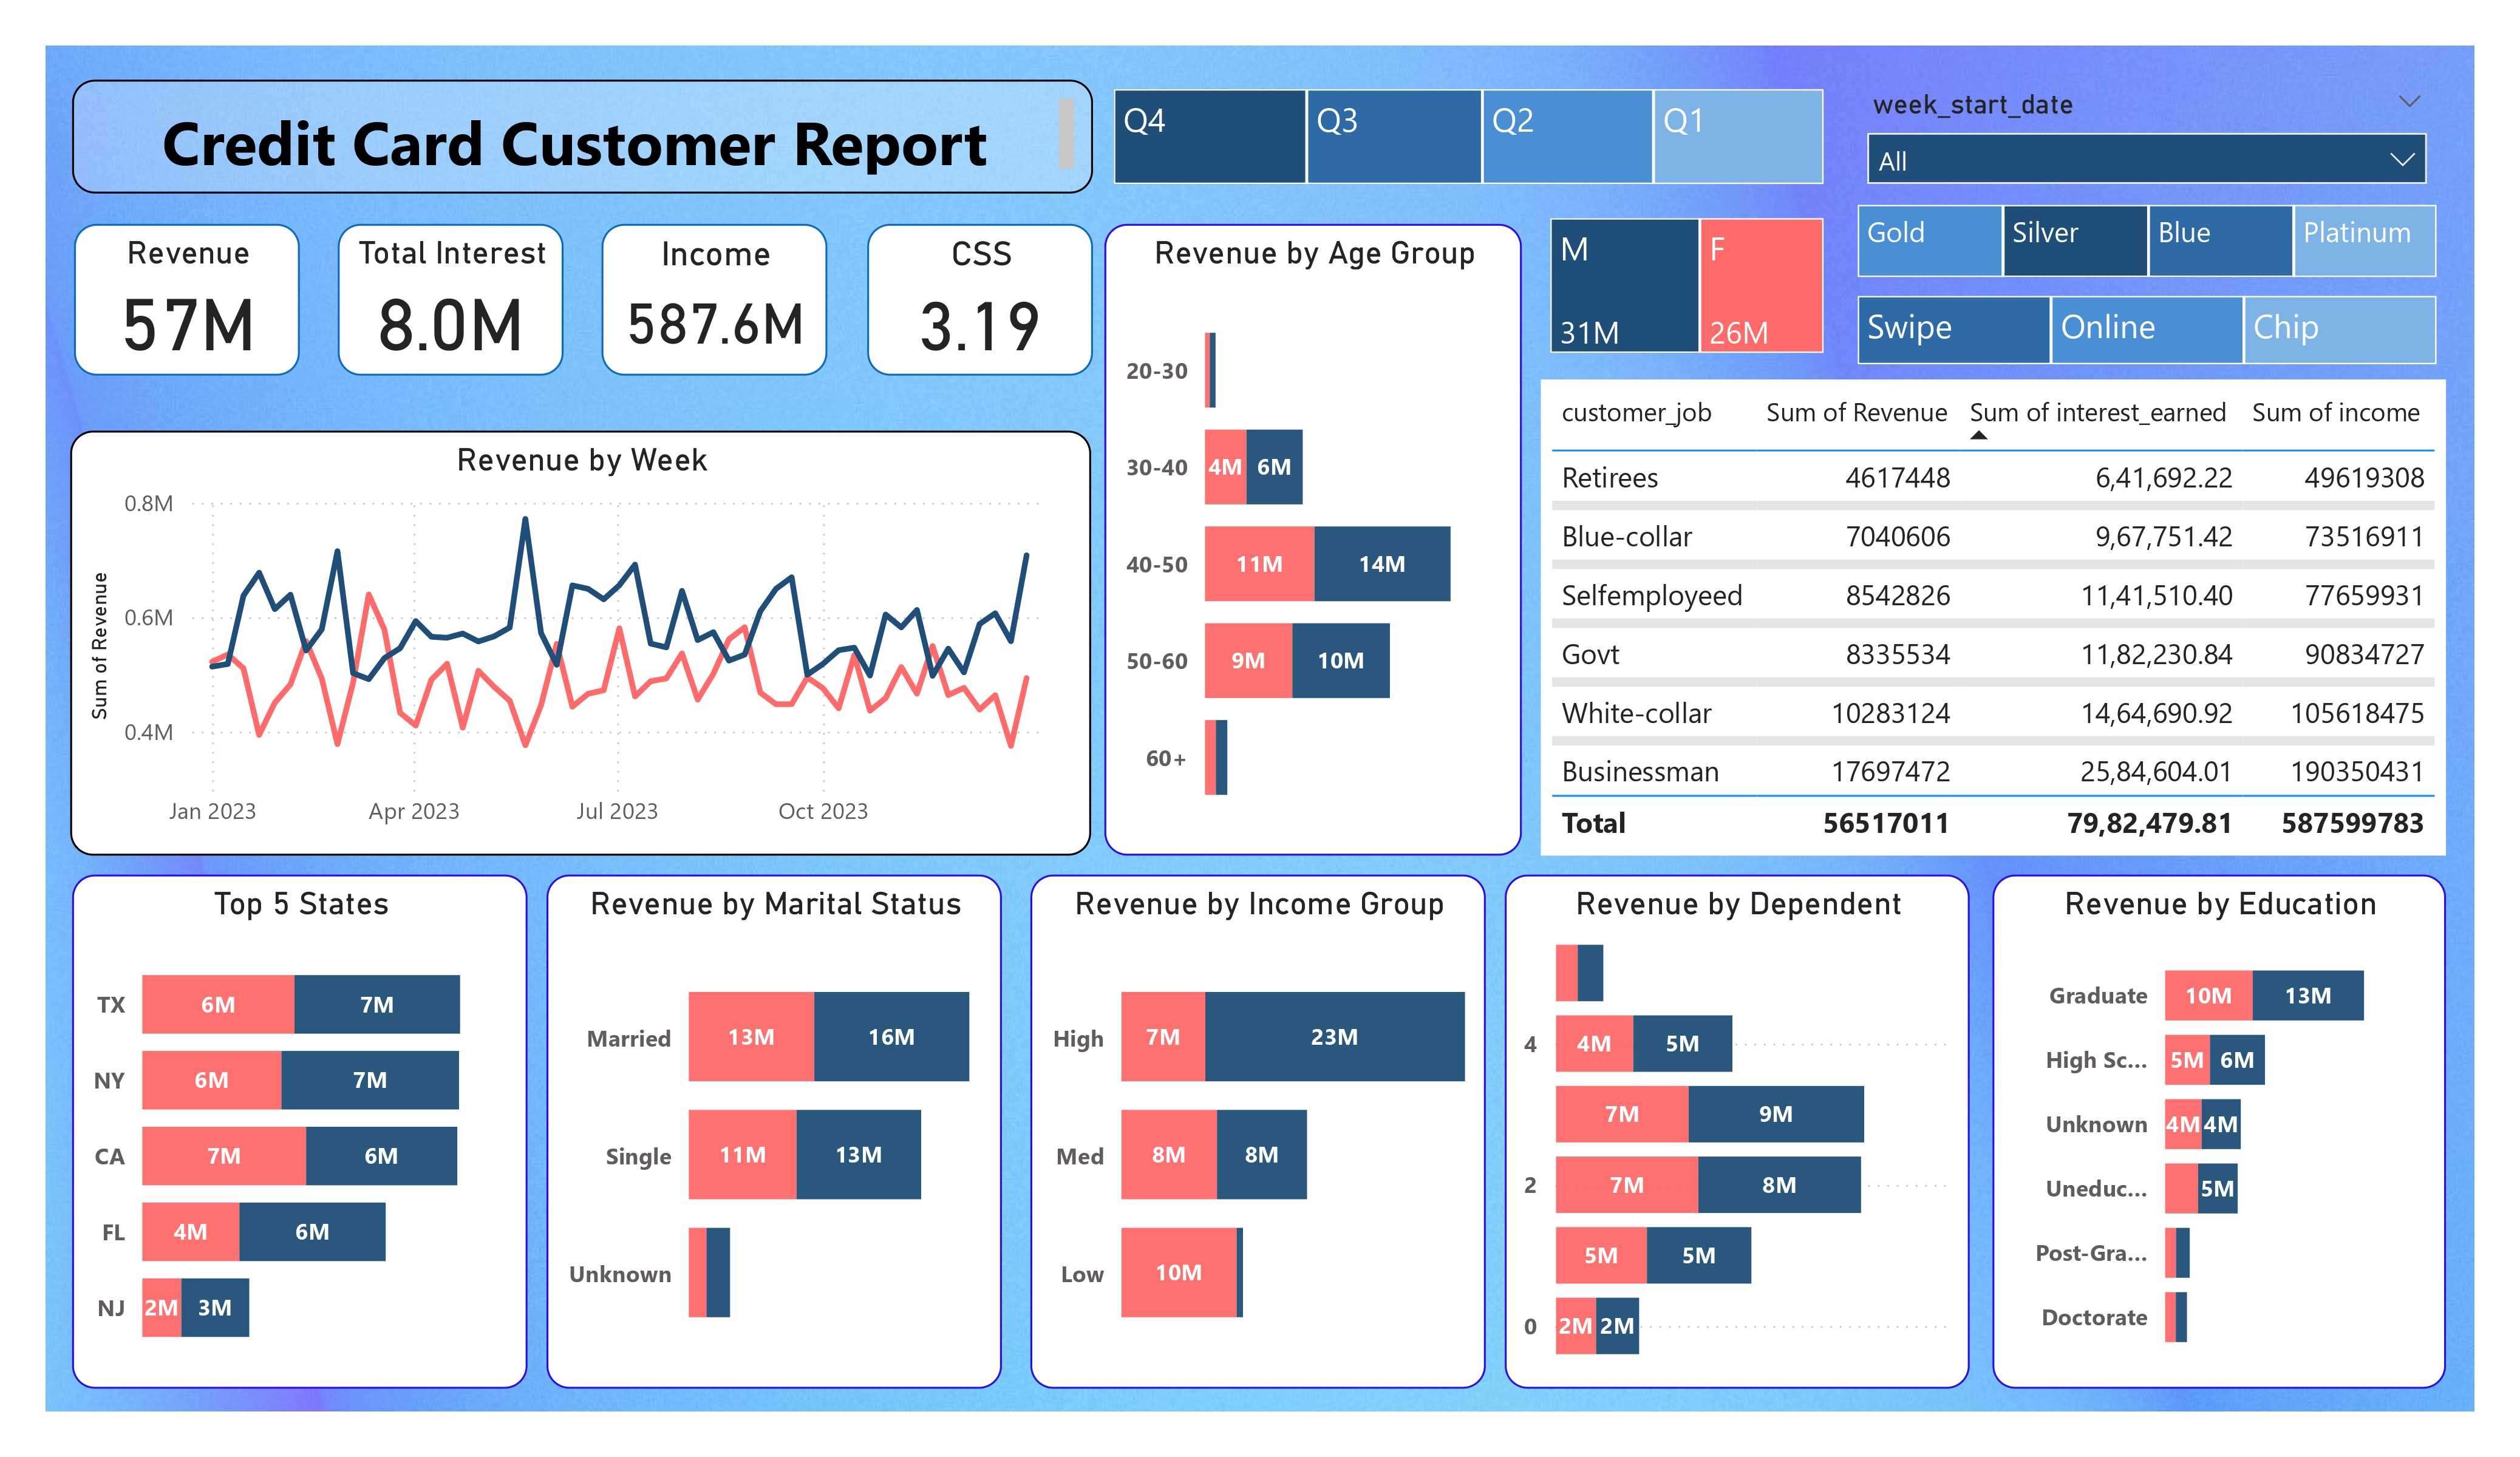

The page's visual inventory and layout, read from the dashboard file:
{"tool":"powerbi","page":{"name":"CC Customer Report","canvas":[1280,720],"ordinal":1},"visuals":[{"type":"textbox","box":[14.3,18.2,537.7,59.7],"z":0},{"type":"barChart","title":"Revenue by Income Group","fields":{"Y":["Sum(public cc_detail.Revenue)"],"Category":["public cust_detail.IncomeGroup"],"Series":["public cust_detail.gender"]},"box":[519.2,437.2,239.7,270.5],"z":1000},{"type":"tableEx","fields":{"Values":["public cust_detail.customer_job","Sum(public cc_detail.Revenue)","Sum(public cc_detail.interest_earned)","Sum(public cust_detail.income)"]},"box":[788.5,175.6,476.9,251.3],"z":2000},{"type":"slicer","fields":{"Values":["public cc_detail.week_start_date"]},"box":[950,17.9,315.4,75.6],"z":3000},{"type":"treemap","fields":{"Group":["public cc_detail.qtr"],"Values":["Avg(public cc_detail.client_num)"]},"box":[557.7,17.9,384.6,60.3],"z":4000},{"type":"treemap","fields":{"Values":["Avg(public cc_detail.client_num)"],"Group":["public cc_detail.use_chip"]},"box":[950,126.9,315.4,46.2],"z":5000},{"type":"treemap","fields":{"Values":["Avg(public cc_detail.client_num)"],"Group":["public cc_detail.card_category"]},"box":[950,79.5,315.4,47.4],"z":6000},{"type":"card","title":"Revenue","fields":{"Values":["Sum(public cc_detail.Revenue)"]},"box":[14.6,93.9,119.5,80.5],"z":8000},{"type":"card","title":"Income","fields":{"Values":["Sum(public cust_detail.income)"]},"box":[292.7,93.9,119.5,80.5],"z":9000},{"type":"card","title":"Total Interest","fields":{"Values":["Sum(public cc_detail.interest_earned)"]},"box":[153.7,93.9,119.5,80.5],"z":10000},{"type":"card","title":"CSS","fields":{"Values":["Avg(public cust_detail.cust_satisfaction_score)"]},"box":[432.9,93.9,119.5,80.5],"z":11000},{"type":"lineChart","title":"Revenue by Week","fields":{"Y":["Sum(public cc_detail.Revenue)"],"Series":["public cust_detail.gender"],"Category":["public cc_detail.week_start_date.Variation.Date Hierarchy.Year","public cc_detail.week_start_date.Variation.Date Hierarchy.Month","public cc_detail.week_start_date.Variation.Date Hierarchy.Day"]},"box":[12.8,202.6,538.5,224.4],"z":12000},{"type":"treemap","fields":{"Group":["public cust_detail.gender"],"Values":["Sum(public cc_detail.Revenue)"]},"box":[788.5,85.9,153.8,80.8],"z":13000},{"type":"barChart","title":"Revenue by Age Group","fields":{"Y":["Sum(public cc_detail.Revenue)"],"Category":["public cust_detail.AgeGroup"],"Series":["public cust_detail.gender"]},"box":[557.7,93.6,220.5,333.3],"z":14000},{"type":"barChart","title":"Revenue by Dependent","fields":{"Y":["Sum(public cc_detail.Revenue)"],"Category":["public cust_detail.dependent_count"],"Series":["public cust_detail.gender"]},"box":[769.2,437.2,245,270.5],"z":15000},{"type":"barChart","title":"Revenue by Education","fields":{"Y":["Sum(public cc_detail.Revenue)"],"Category":["public cust_detail.education_level"],"Series":["public cust_detail.gender"]},"box":[1025.6,437.2,239.7,270.5],"z":16000},{"type":"barChart","title":"Top 5 States","fields":{"Y":["Sum(public cc_detail.Revenue)"],"Category":["public cust_detail.state_cd"],"Series":["public cust_detail.gender"]},"box":[14.1,437.2,239.7,270.5],"z":17000},{"type":"barChart","title":"Revenue by Marital Status","fields":{"Y":["Sum(public cc_detail.Revenue)"],"Category":["public cust_detail.marital_status"],"Series":["public cust_detail.gender"]},"box":[264.1,437.2,239.7,270.5],"z":17001}]}

Visuals, with their boxes in screenshot pixels (x1, y1, x2, y2):
textbox: region(73, 80, 1093, 193)
"Revenue by Income Group" barChart: region(1031, 875, 1486, 1388)
tableEx - public cust_detail.customer_job x Sum(public cc_detail.Revenue): region(1542, 379, 2447, 855)
slicer - public cc_detail.week_start_date: region(1848, 80, 2447, 223)
treemap - public cc_detail.qtr x Avg(public cc_detail.client_num): region(1104, 80, 1834, 194)
treemap - Avg(public cc_detail.client_num) x public cc_detail.use_chip: region(1848, 287, 2447, 374)
treemap - Avg(public cc_detail.client_num) x public cc_detail.card_category: region(1848, 196, 2447, 287)
"Revenue" card: region(73, 223, 300, 376)
"Income" card: region(601, 223, 828, 376)
"Total Interest" card: region(337, 223, 564, 376)
"CSS" card: region(867, 223, 1094, 376)
"Revenue by Week" lineChart: region(70, 430, 1092, 855)
treemap - public cust_detail.gender x Sum(public cc_detail.Revenue): region(1542, 208, 1834, 362)
"Revenue by Age Group" barChart: region(1104, 223, 1522, 855)
"Revenue by Dependent" barChart: region(1505, 875, 1970, 1388)
"Revenue by Education" barChart: region(1992, 875, 2447, 1388)
"Top 5 States" barChart: region(72, 875, 527, 1388)
"Revenue by Marital Status" barChart: region(547, 875, 1001, 1388)
